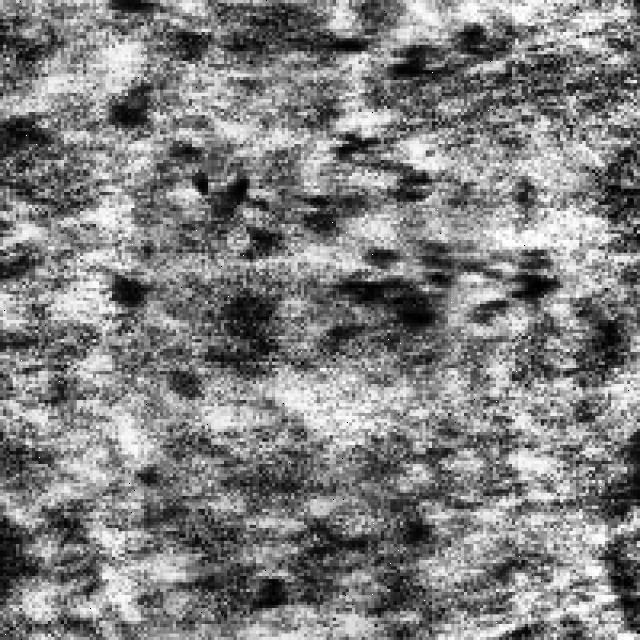Crazing: (234, 131, 554, 323)
